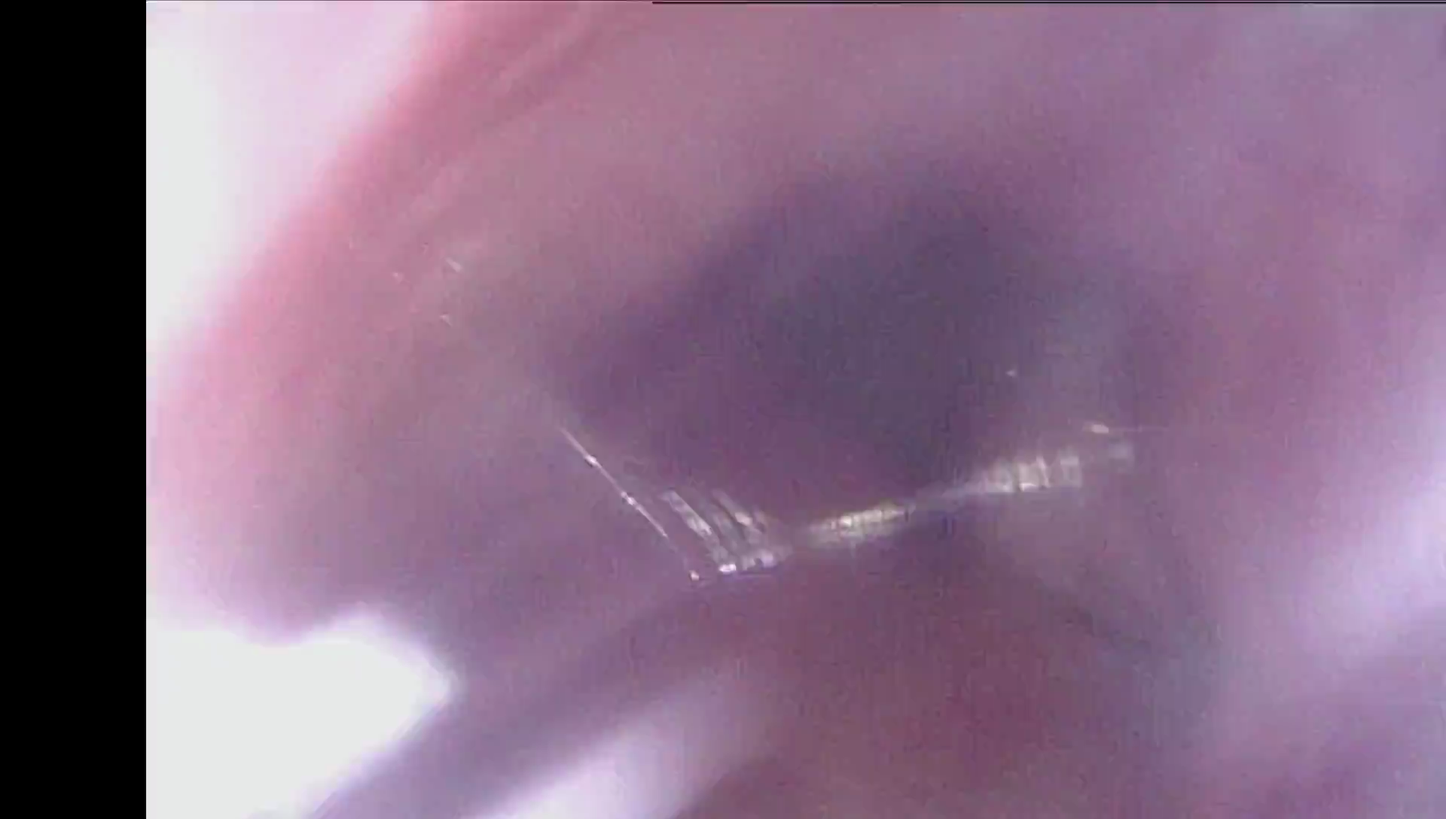close_wall: (158, 0, 590, 443)
next: (763, 209, 1023, 543)
